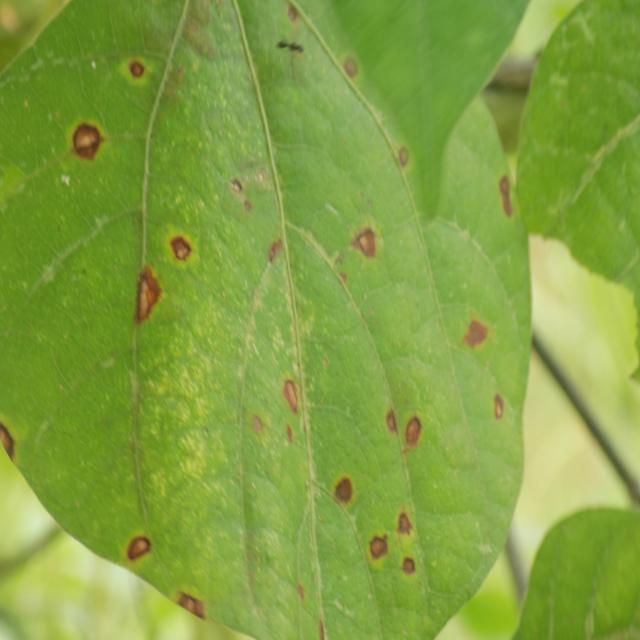Dolicos bean_cercospora leaf spot: (0, 5, 533, 640)
